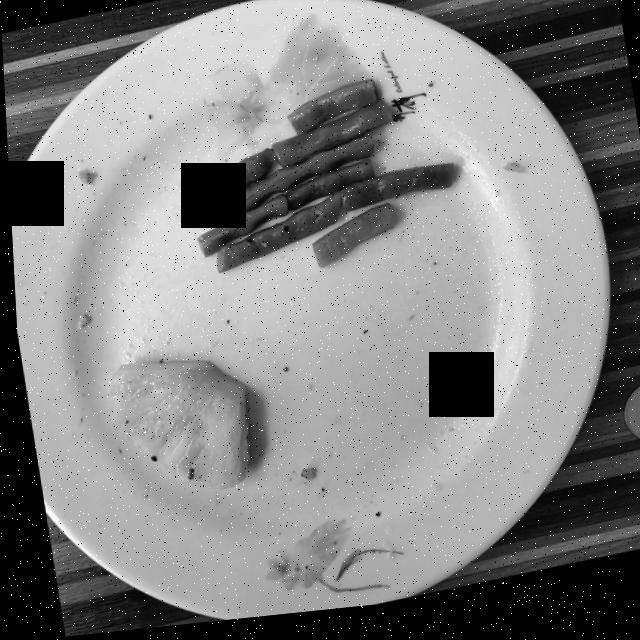coin: (618, 395, 640, 453)
pineapple: (106, 363, 244, 493)
